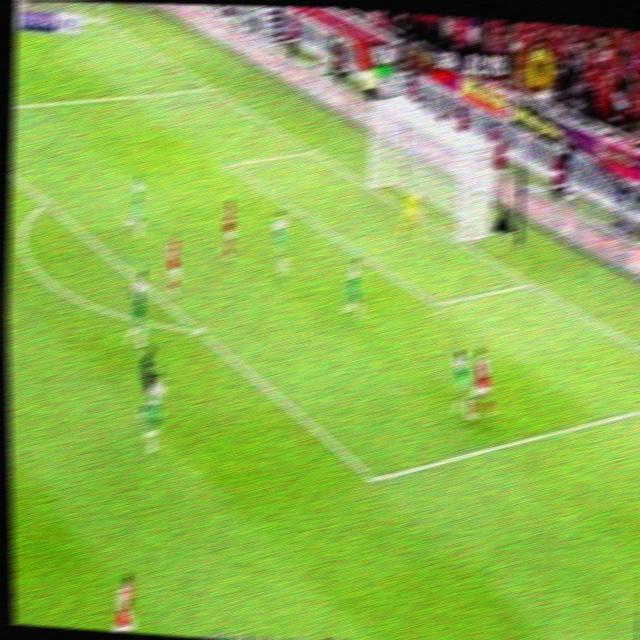bigarea_bottom_inner: (363, 464, 386, 495)
bigarea_top_outter: (205, 79, 221, 96)
bottom_arc_area_intersection: (189, 320, 207, 339)
corner: (92, 11, 113, 25)
smallarea_bottom_inner: (426, 288, 446, 318)
smallarea_bottom_outter: (521, 272, 540, 294)
smallarea_top_inner: (222, 156, 238, 173)
smallarea_top_outter: (303, 142, 320, 159)
top_arc_area_intersection: (38, 193, 55, 211)
